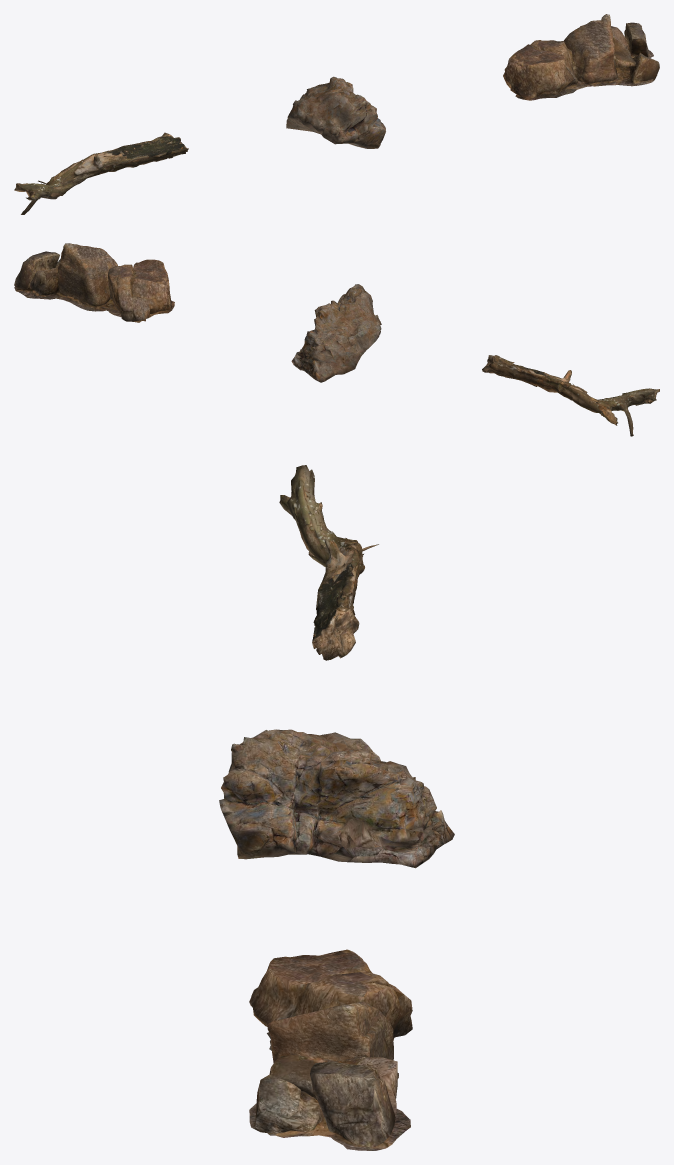
File: field.glb
3 views of the same model, one above another, from view 1: azimuth 30°, elevation 25°; view 2: azimuth 150°, elevation 25°; view 3: azimuth 270°, elevation 25° (orthographic). The views are drawn at different scales.
Visible parts, largest first — view 1: boulder_1, boulder_0, log_0; view 2: boulder_1, boulder_0, log_0; view 3: boulder_1, boulder_0, log_0.
Part boxes in pixels (bbox=[...]): boulder_1: bbox=[503, 14, 659, 100]; boulder_0: bbox=[286, 76, 385, 148]; log_0: bbox=[14, 132, 188, 214]; boulder_1: bbox=[14, 243, 174, 322]; boulder_0: bbox=[291, 284, 381, 382]; log_0: bbox=[482, 355, 659, 436]; boulder_1: bbox=[249, 949, 412, 1150]; boulder_0: bbox=[219, 729, 454, 868]; log_0: bbox=[279, 465, 378, 660].
Bounding box in the file's own units: 21.39 × 1.98 × 3.48.
Materials: 3 (3 with a texture image).
